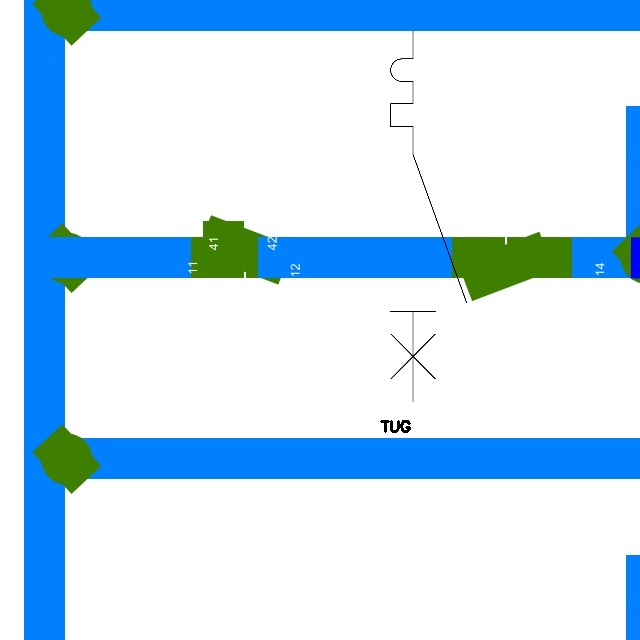interruptor_termomagnetico: (381, 21, 476, 411)
